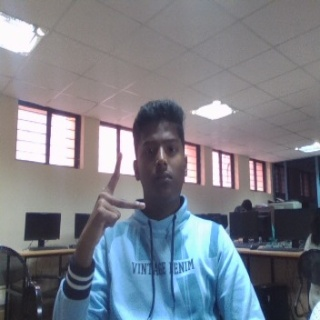Okay: (81, 151, 146, 249)
